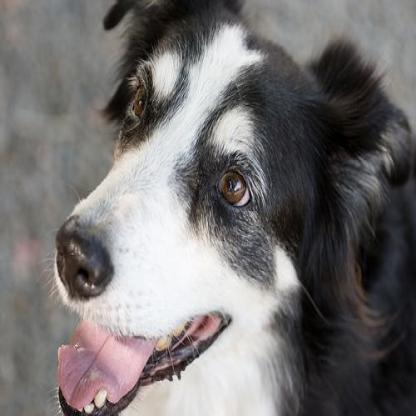Border_collie: (37, 0, 414, 414)
